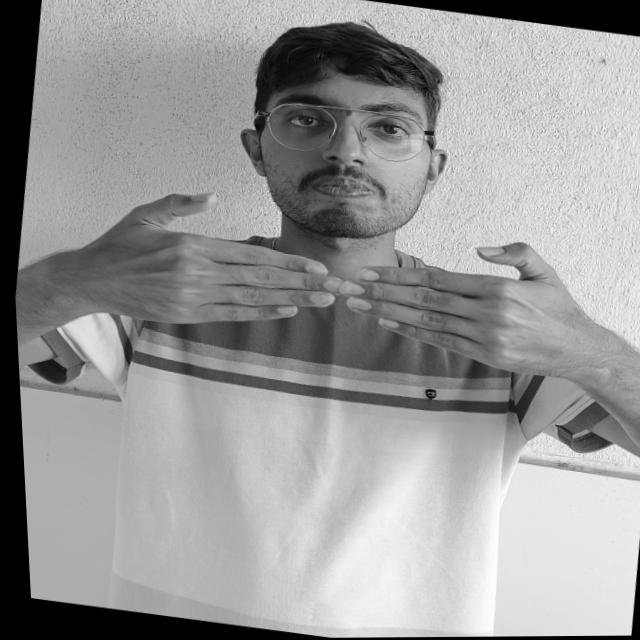Night: (15, 152, 640, 430)
